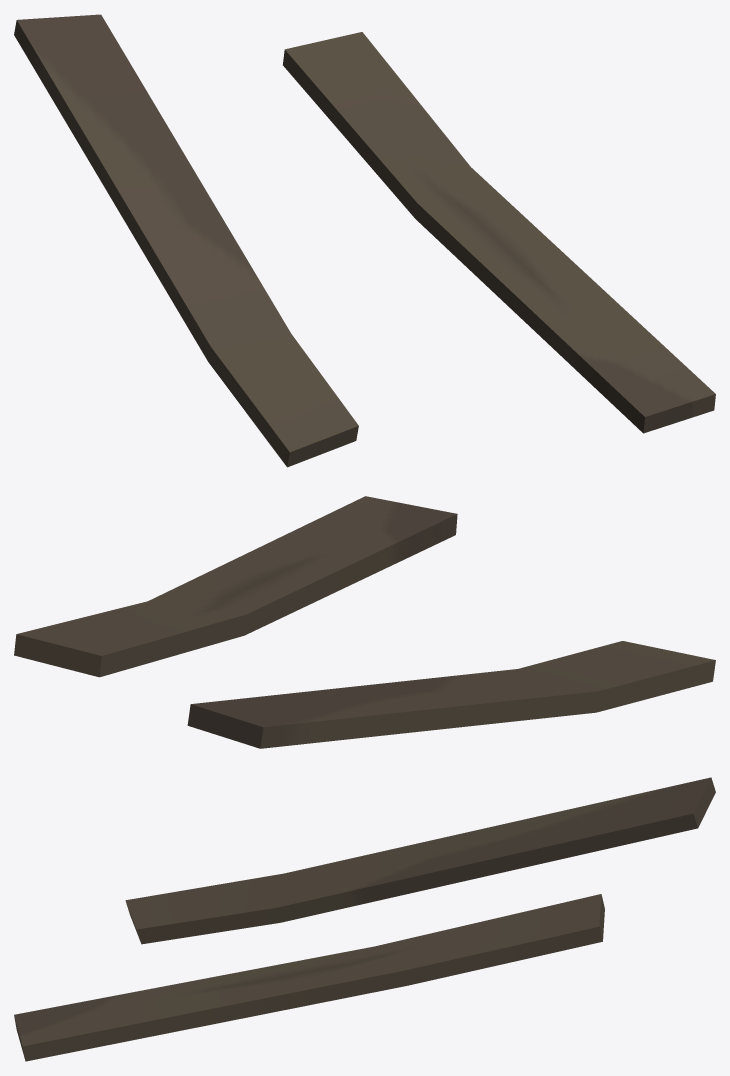
The model's file is SM_Bld_Roof_Planks_01.fbx.
3 renders of one model, top to bottom at view 1: azimuth 30°, elevation 25°; view 2: azimuth 150°, elevation 25°; view 3: azimuth 270°, elevation 25°, orthographic. The views are drawn at different scales.
Visible parts, largest first — view 1: SM_Bld_Roof_Planks_01; view 2: SM_Bld_Roof_Planks_01; view 3: SM_Bld_Roof_Planks_01.
Part boxes in pixels (bbox=[...]): SM_Bld_Roof_Planks_01: bbox=[14, 14, 715, 467]; SM_Bld_Roof_Planks_01: bbox=[14, 496, 715, 748]; SM_Bld_Roof_Planks_01: bbox=[14, 777, 715, 1061].
Size of the model in its own units: 155 by 75.99 by 294.
